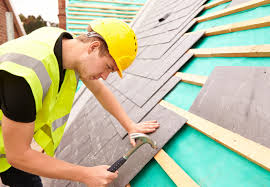casque: (19, 11, 163, 187)
